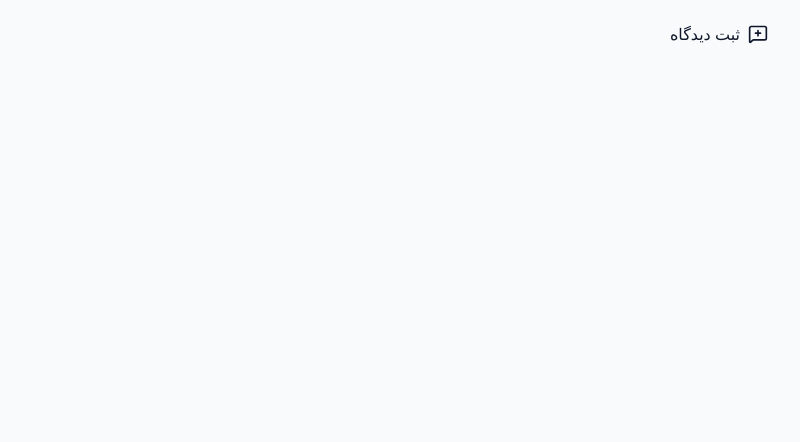
SubjectCommentComposer: a post’s form › checks the text and a guest’s name first, the focus on the first to fix
What coordinates should you click on to do the following:
click the button "ثبت دیدگاه"
I would click on:
 (719, 34)
Its box is x1=650 y1=12 x2=788 y2=56.
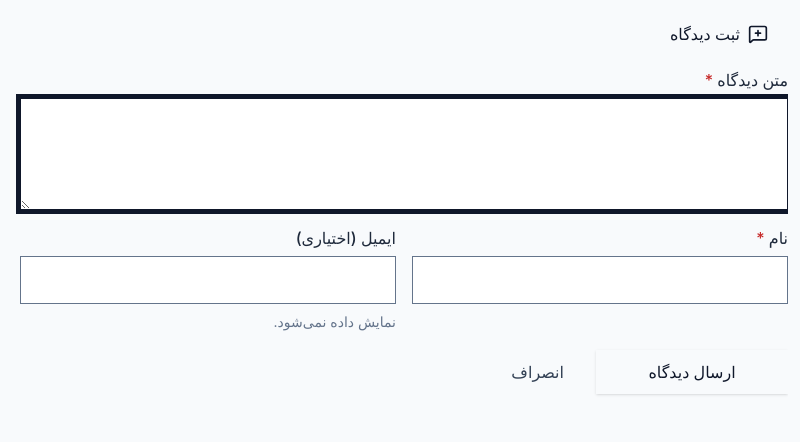
What coordinates should you click on to do the following:
click the button "ارسال دیدگاه"
I would click on:
 (692, 372)
Its box is x1=596 y1=350 x2=788 y2=394.
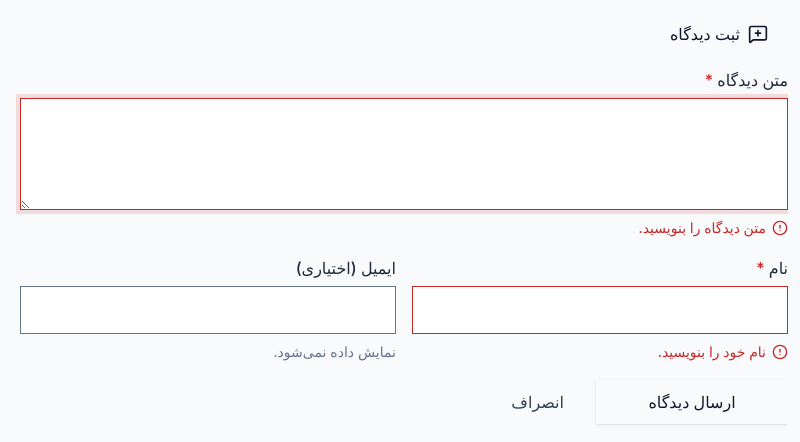
Expected: the text "متن دیدگاه را بنویسید." is shown, x1=638 y1=216 x2=766 y2=240
Expected: the text "نام خود را بنویسید." is shown, x1=658 y1=340 x2=766 y2=364
